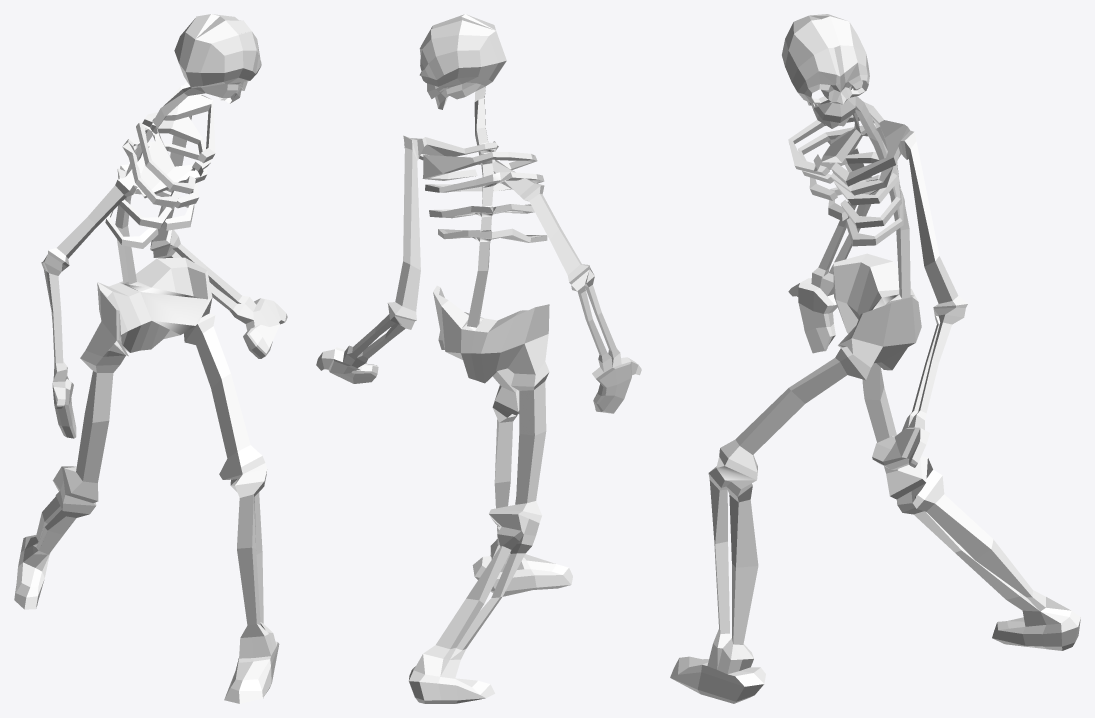
File: SkeletonIdle(35).obj
3 views of the same model, side by side, from view 1: azimuth 30°, elevation 25°; view 2: azimuth 150°, elevation 25°; view 3: azimuth 270°, elevation 25° (orthographic). The views are drawn at different scales.
Visible parts, largest first — view 1: Object002; view 2: Object002; view 3: Object002.
Boxes of the visible parts, x1,y1,x2,y2 form: Object002: (14, 14, 287, 703); Object002: (316, 14, 641, 703); Object002: (670, 14, 1080, 703).
Size of the model in its own units: 525 by 1108 by 607.
